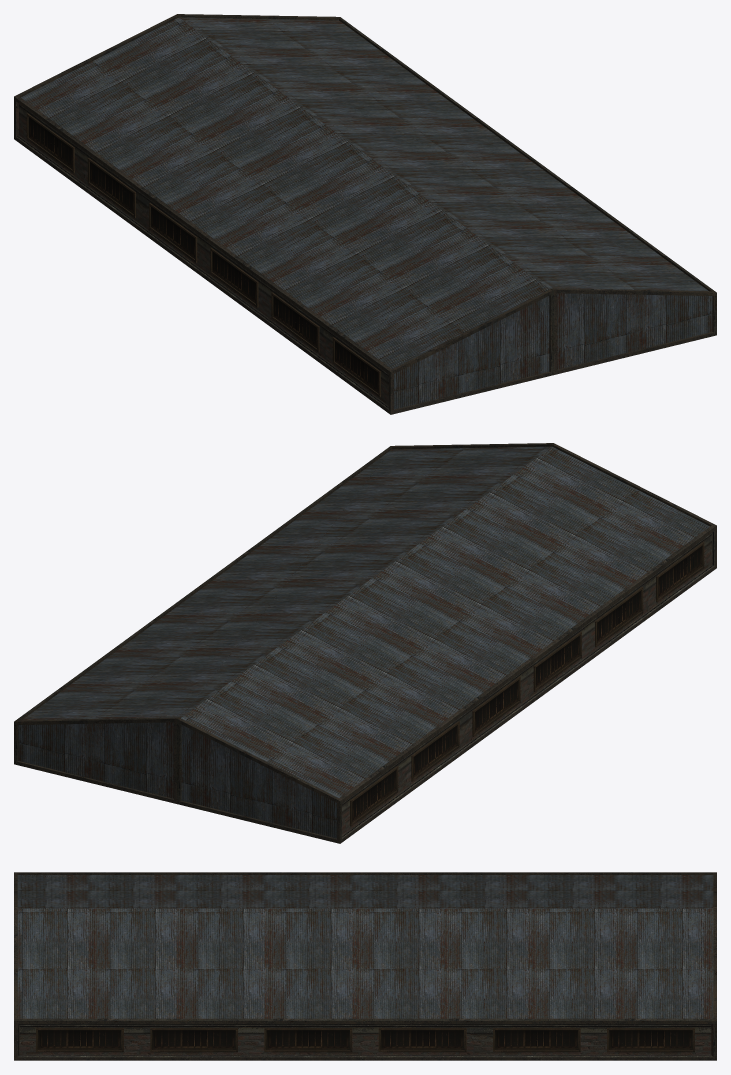
Rendered from roof_mh_4_a_4.obj.
3 renders of one model, top to bottom at view 1: azimuth 30°, elevation 25°; view 2: azimuth 150°, elevation 25°; view 3: azimuth 270°, elevation 25°, orthographic. The views are drawn at different scales.
Visible parts, largest first — view 1: roof_mh_4_a_4; view 2: roof_mh_4_a_4; view 3: roof_mh_4_a_4.
Boxes of the visible parts, x1,y1,x2,y2 form: roof_mh_4_a_4: [14, 14, 716, 414]; roof_mh_4_a_4: [14, 443, 716, 843]; roof_mh_4_a_4: [14, 872, 716, 1060].
Bounding box in the file's own units: 8 × 2 × 16.
